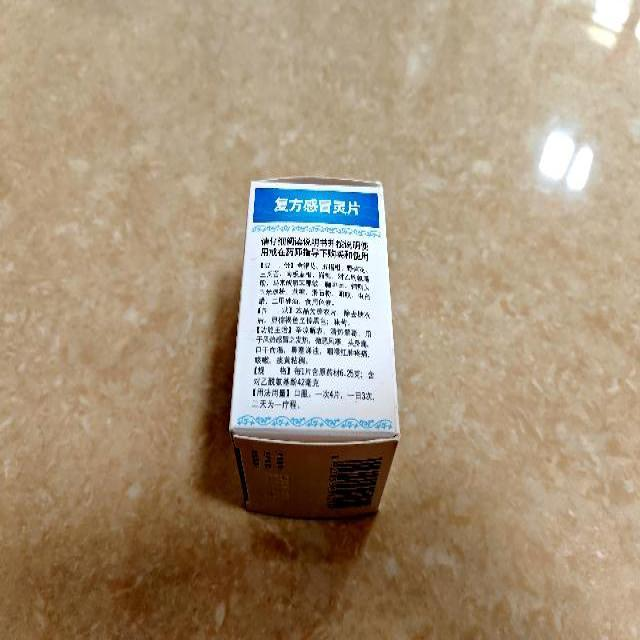box: (231, 176, 401, 520)
